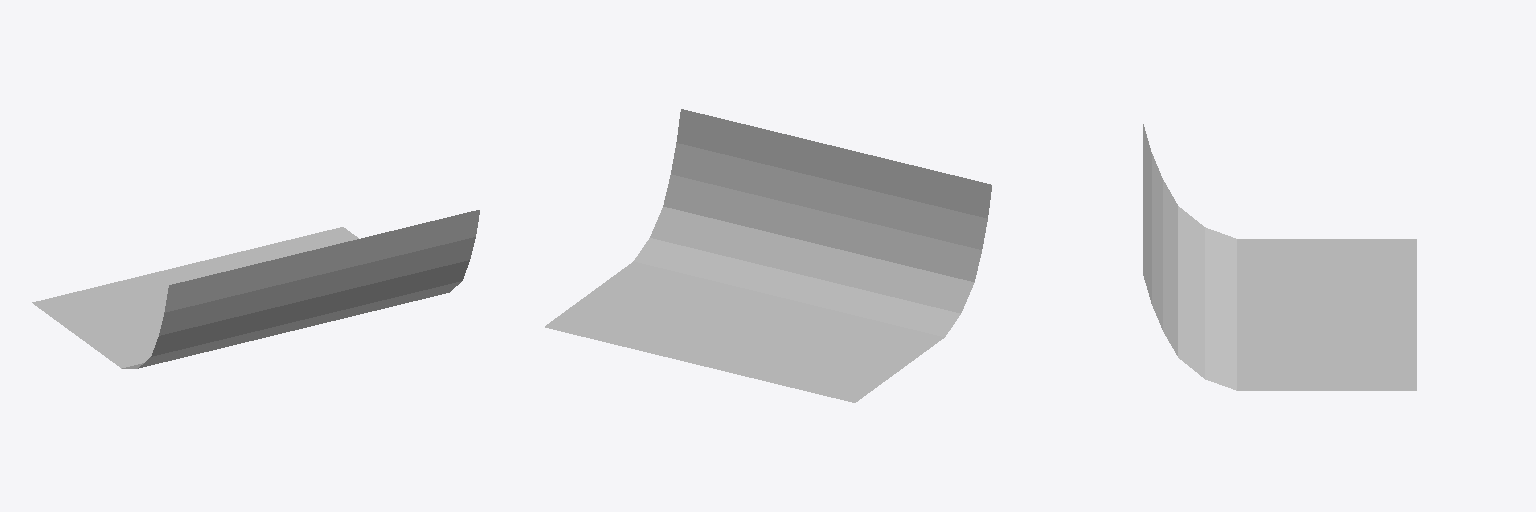
The model's file is background.obj.
3 views of the same model, side by side, from view 1: azimuth 30°, elevation 25°; view 2: azimuth 150°, elevation 25°; view 3: azimuth 270°, elevation 25° (orthographic).
Visible parts, largest first — view 1: background; view 2: background; view 3: background.
Boxes of the visible parts, x1=… form: background: x1=32, y1=210, x2=479, y2=368; background: x1=545, y1=109, x2=991, y2=402; background: x1=1143, y1=124, x2=1416, y2=390.
Bounding box in the file's own units: 18.75 × 6.78 × 14.32.